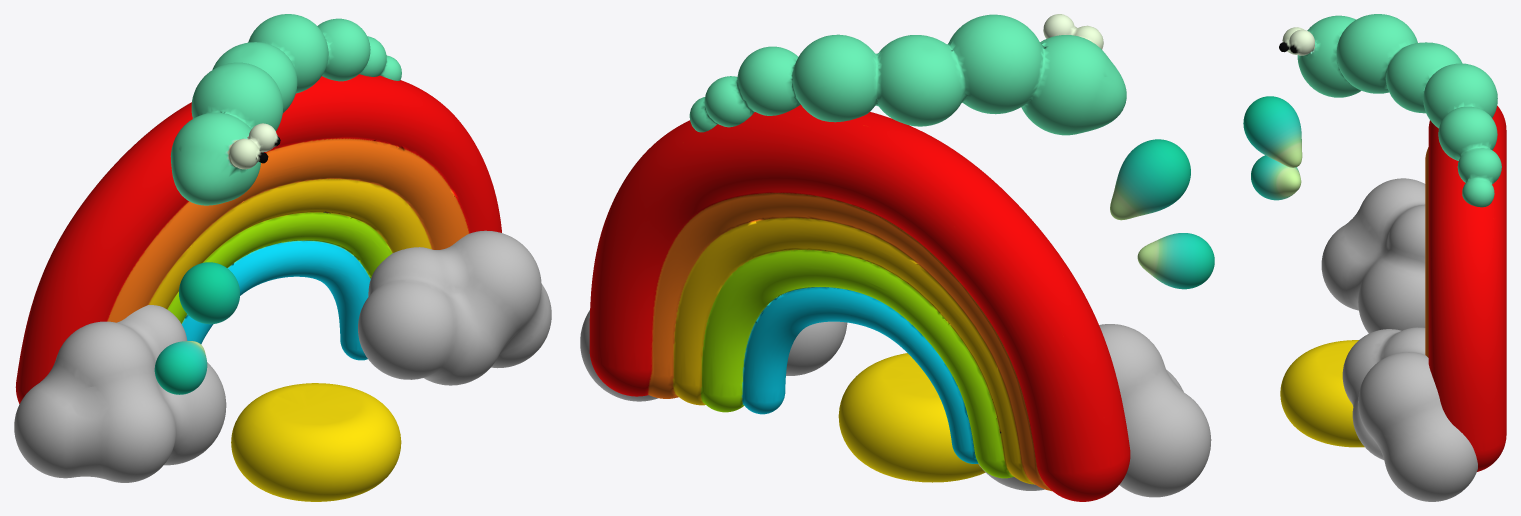
3 renders of one model, left to right at view 1: azimuth 30°, elevation 25°; view 2: azimuth 150°, elevation 25°; view 3: azimuth 270°, elevation 25°, orthographic. The views are drawn at different scales.
Parts seen in each view (by area): view 1: model_1, model_7, model_0; view 2: model_7, model_1, model_0; view 3: model_1, model_7, model_0.
Part boxes in pixels (x1=…): model_1: x1=14, y1=14, x2=551, y2=501; model_7: x1=15, y1=74, x2=501, y2=403; model_0: x1=154, y1=262, x2=239, y2=394; model_7: x1=589, y1=104, x2=1130, y2=501; model_1: x1=580, y1=14, x2=1211, y2=497; model_0: x1=1110, y1=139, x2=1214, y2=289; model_1: x1=1279, y1=14, x2=1501, y2=501; model_7: x1=1425, y1=106, x2=1506, y2=471; model_0: x1=1243, y1=96, x2=1302, y2=200.
Bounding box in the file's own units: 1.39 × 1.03 × 0.6482.
3 materials, 3 textured.
